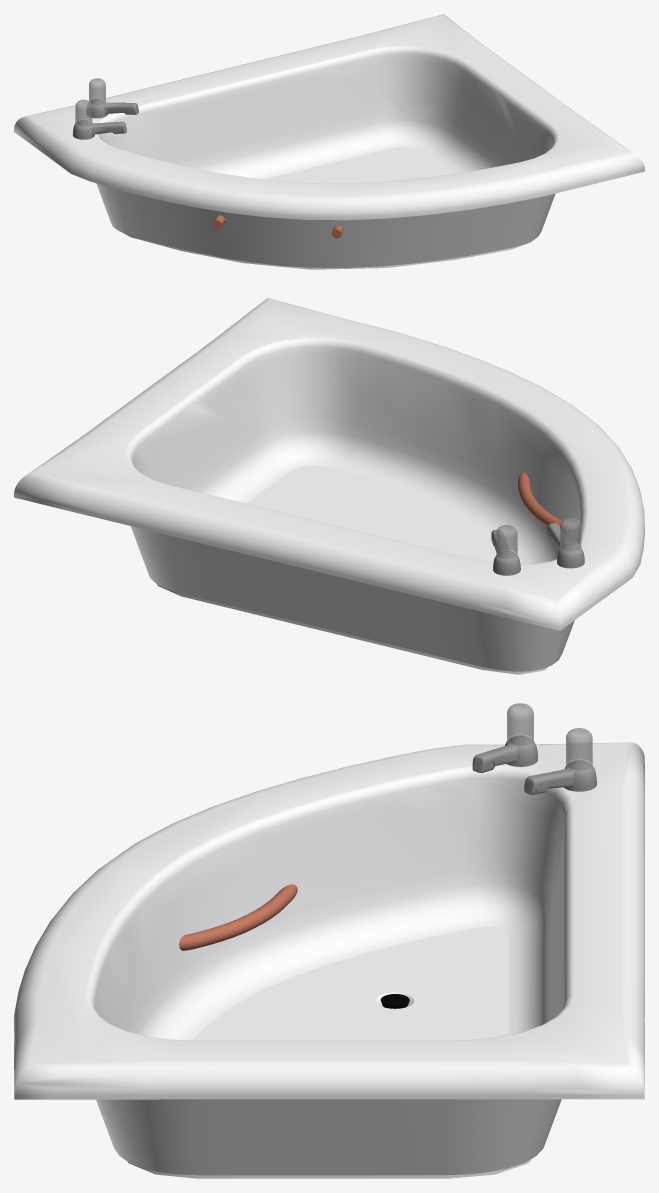
Rendered from bathtub_3ddomino.glb.
3 views of the same model, one above another, from view 1: azimuth 30°, elevation 25°; view 2: azimuth 150°, elevation 25°; view 3: azimuth 270°, elevation 25° (orthographic). The views are drawn at different scales.
Parts seen in each view (by area): view 1: CORNBATH_1PEACHY_0, CORNBATH_1TAPHANDELL_0; view 2: CORNBATH_1PEACHY_0, CORNBATH_1TAPHANDELL_0; view 3: CORNBATH_1PEACHY_0, CORNBATH_1TAPHANDELL_0.
Boxes of the visible parts, left/top/right/bottom form: CORNBATH_1PEACHY_0: left=14, top=14, right=644, bottom=269; CORNBATH_1TAPHANDELL_0: left=75, top=78, right=105, bottom=126; CORNBATH_1PEACHY_0: left=14, top=298, right=644, bottom=674; CORNBATH_1TAPHANDELL_0: left=496, top=517, right=581, bottom=558; CORNBATH_1PEACHY_0: left=14, top=735, right=644, bottom=1178; CORNBATH_1TAPHANDELL_0: left=507, top=703, right=592, bottom=770.
Size of the model in its own units: 1673 by 477 by 1330.
Materials: 2 (2 with a texture image).
